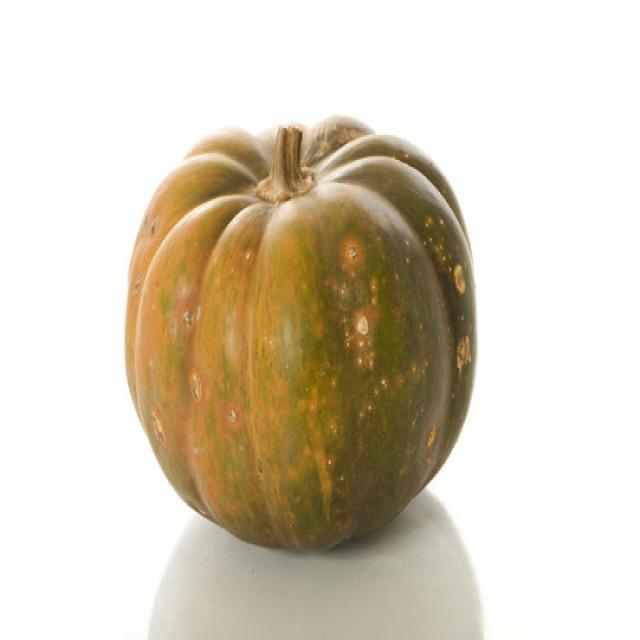Pumpkin: (123, 114, 478, 553)
